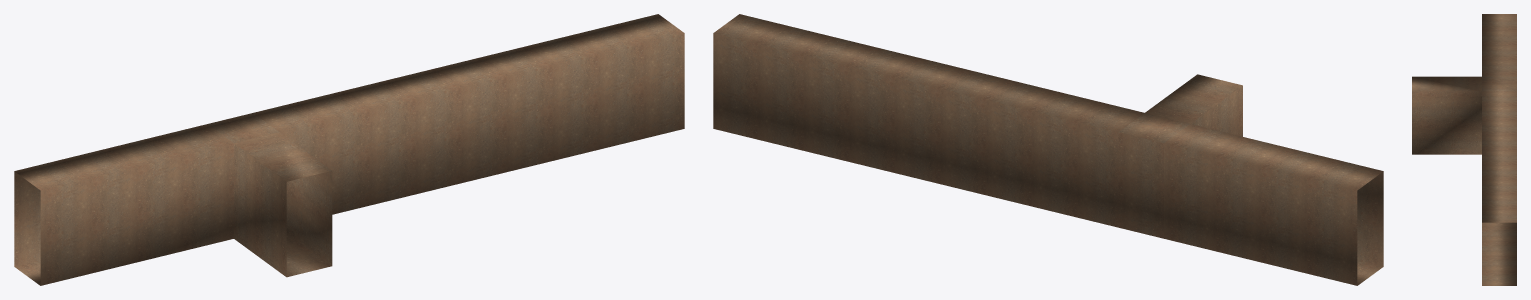
Rendered from SM_Сorridor_01.fbx.
3 renders of one model, left to right at view 1: azimuth 30°, elevation 25°; view 2: azimuth 150°, elevation 25°; view 3: azimuth 270°, elevation 25°, orthographic. The views are drawn at different scales.
Visible parts, largest first — view 1: SM_Сorridor_01; view 2: SM_Сorridor_01; view 3: SM_Сorridor_01.
Boxes of the visible parts, <box> form: SM_Сorridor_01: <box>14,14,684,285</box>; SM_Сorridor_01: <box>713,14,1383,285</box>; SM_Сorridor_01: <box>1412,14,1516,285</box>.
Bounding box in the file's own units: 28.24 × 4 × 6.
